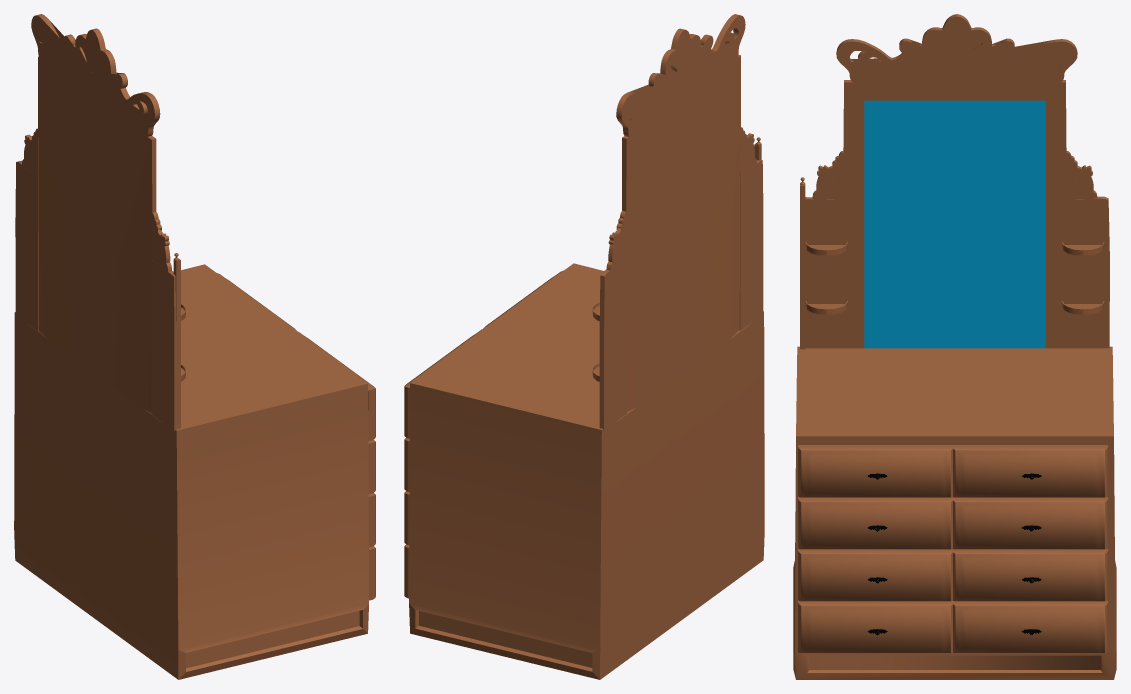
The model's file is chestofdrawersFull.fbx.
3 views of the same model, side by side, from view 1: azimuth 30°, elevation 25°; view 2: azimuth 150°, elevation 25°; view 3: azimuth 270°, elevation 25° (orthographic). The views are drawn at different scales.
Visible parts, largest first — view 1: Plane.001; view 2: Plane.001; view 3: Plane.001.
Boxes of the visible parts, left/top/right/bottom form: Plane.001: left=14, top=14, right=375, bottom=679; Plane.001: left=404, top=14, right=764, bottom=679; Plane.001: left=793, top=14, right=1116, bottom=679.
Bounding box in the file's own units: 513 × 1374 × 700.
